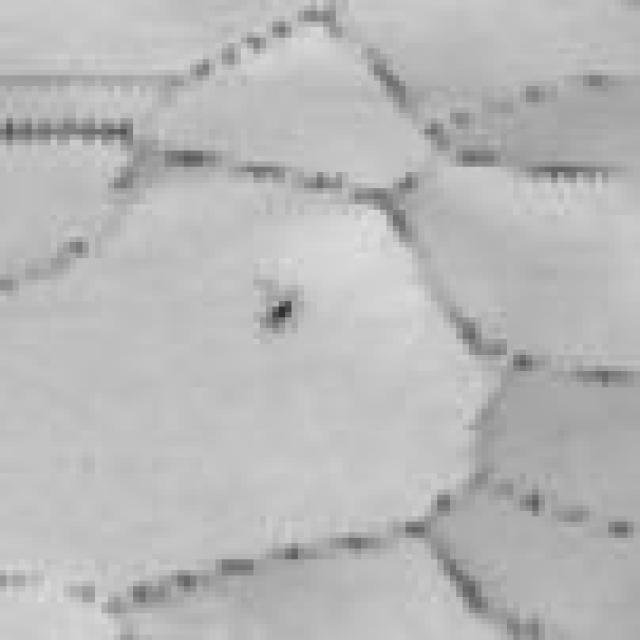good_void: (262, 298, 300, 334)
